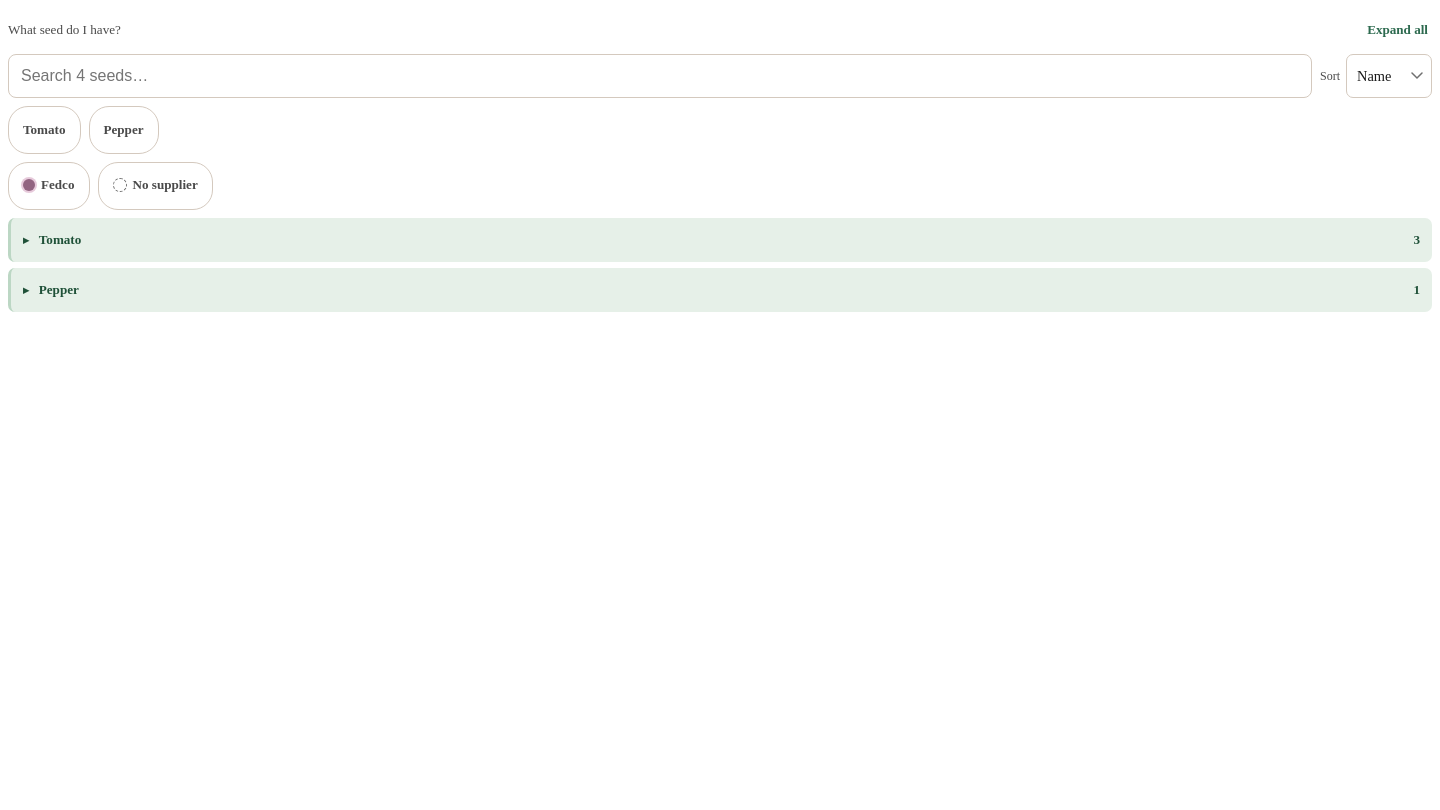
Test: My seeds — what each card says › an F2 lot's line WRAPS: "F2 — won’t come true", the amount and the heat are all whole items of it — the heat is never given up for the chip
Expected: the element with test id "my-seeds-view" is shown, x1=8 y1=8 x2=1432 y2=312
Click the button with test id "facet-group-header" showing "▸ Tomato 3" at (60, 240), box x1=8 y1=218 x2=1432 y2=262
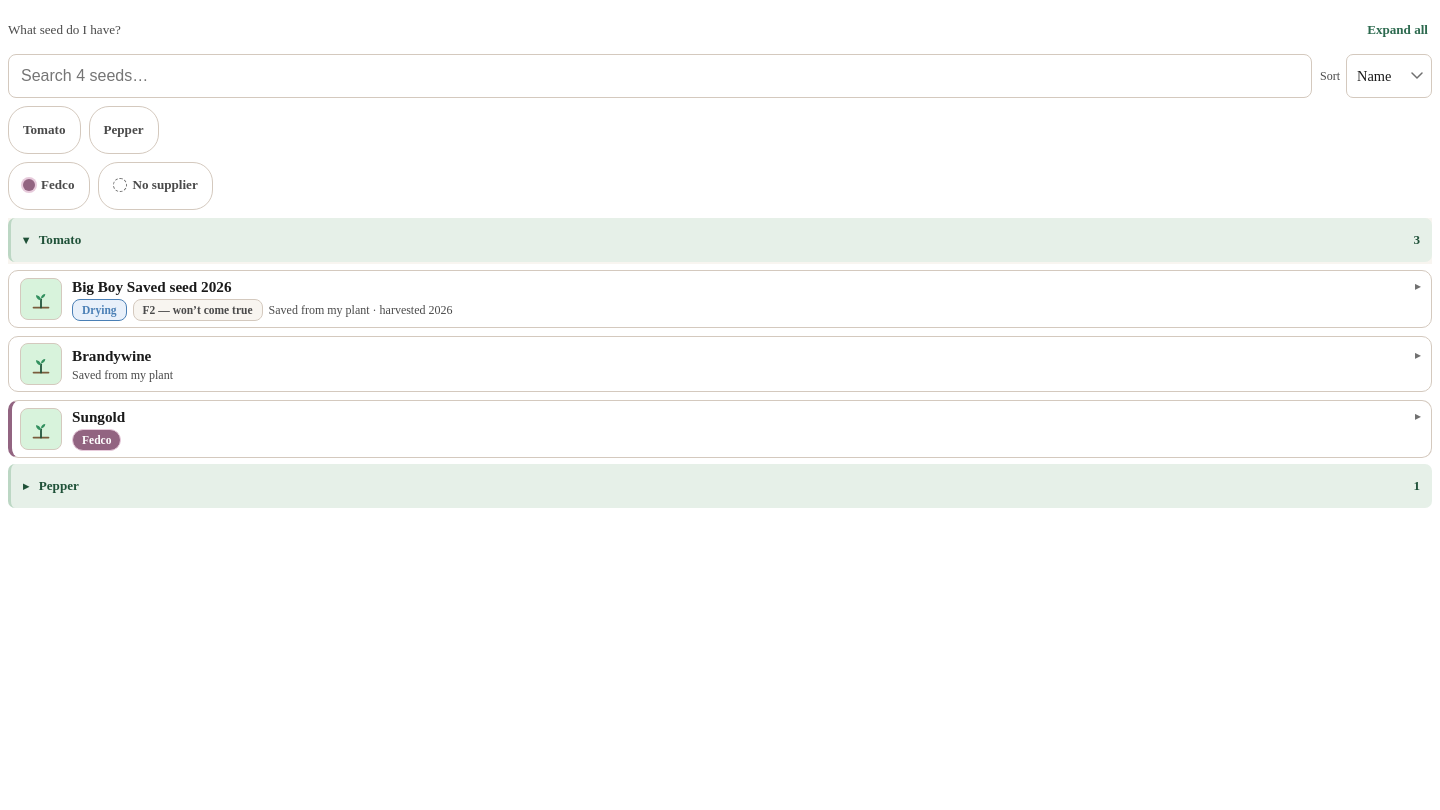
Click the button with test id "facet-group-header" showing "▸ Pepper 1" at (59, 486), box x1=8 y1=464 x2=1432 y2=508
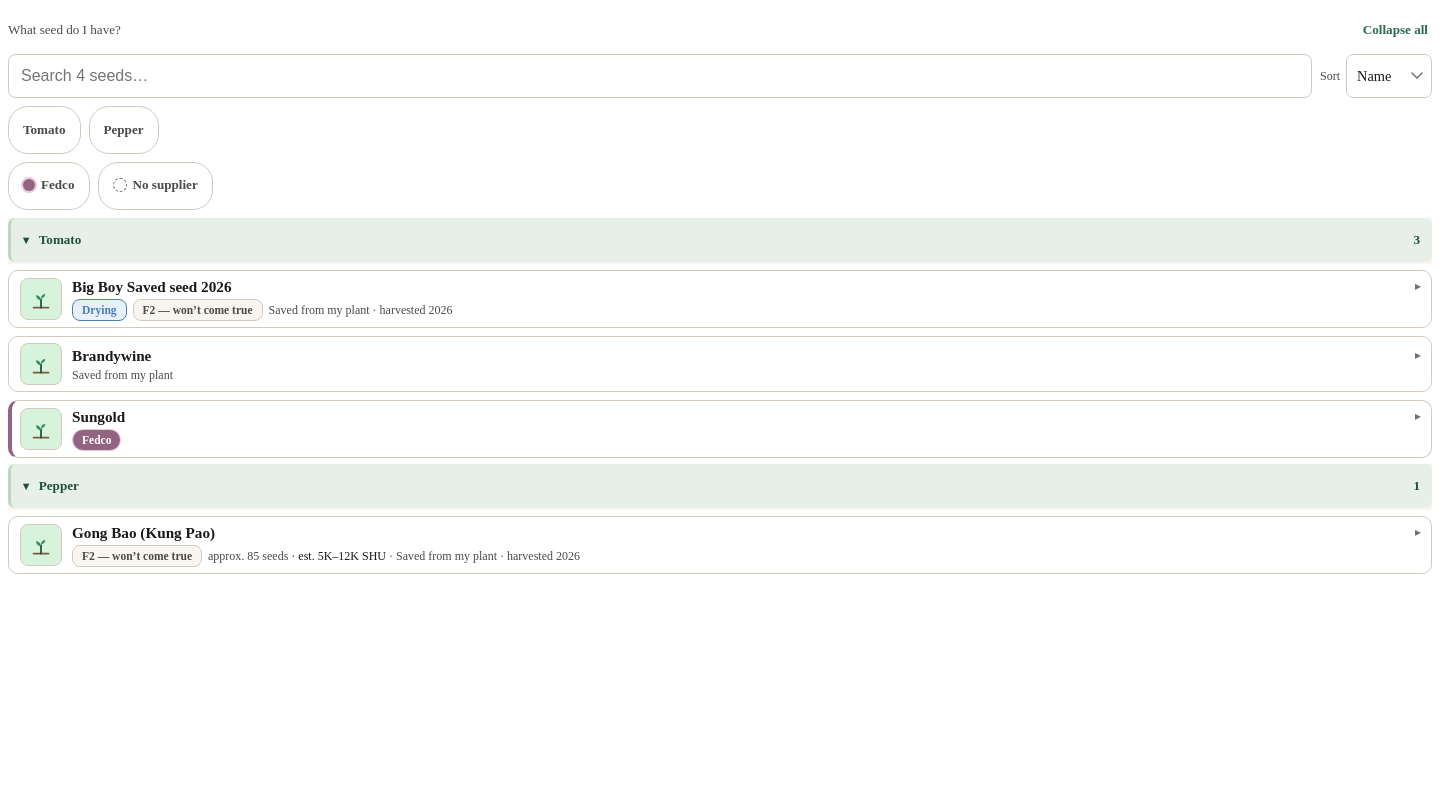
Expected: the 3rd text with test id "my-seed-chip" is shown, x1=72 y1=545 x2=202 y2=567
Expected: the text with test id "my-seed-amount" reads "approx. 85 seeds", x1=208 y1=549 x2=288 y2=563
Expected: the text with test id "my-seed-heat" reads "est. 5K–12K SHU", x1=298 y1=549 x2=386 y2=563
